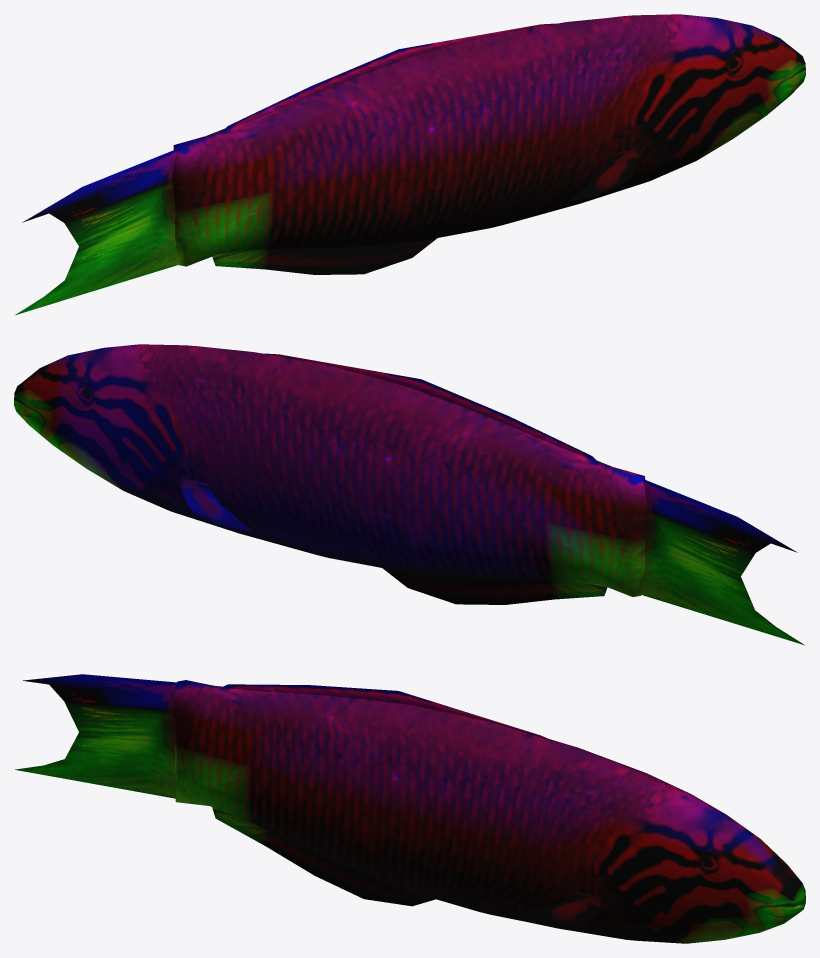
The model's file is moon_wrasse.glb.
The picture shows the model from 3 angles, top to bottom: view 1: azimuth 30°, elevation 25°; view 2: azimuth 150°, elevation 25°; view 3: azimuth 330°, elevation 25°; orthographic projection.
Visible parts, largest first — view 1: MoonWrasse; view 2: MoonWrasse; view 3: MoonWrasse.
Boxes of the visible parts, bbox=[...] form: MoonWrasse: bbox=[15, 14, 805, 315]; MoonWrasse: bbox=[14, 344, 804, 645]; MoonWrasse: bbox=[15, 674, 805, 943].
Bounding box in the file's own units: 1 × 0.262 × 0.1064.
Materials: 1 (1 with a texture image).
